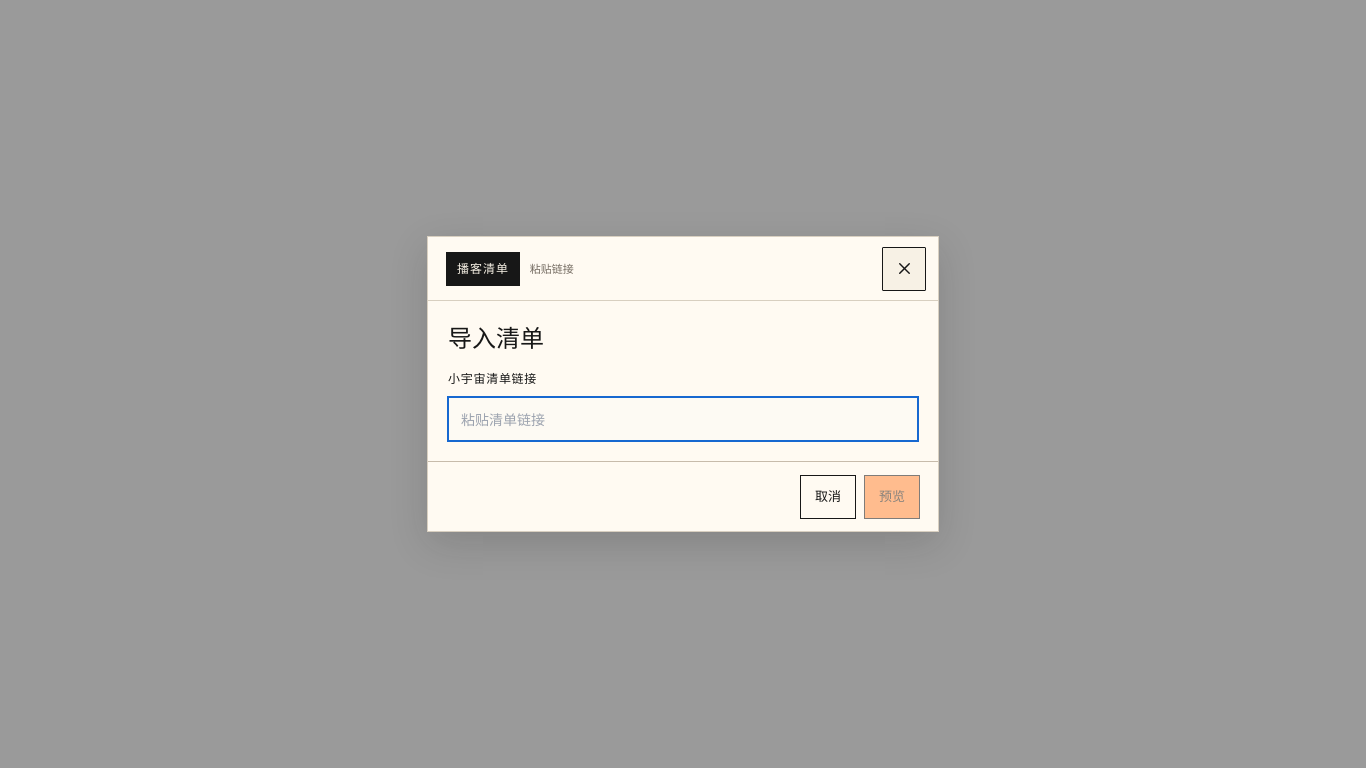
Test: ImportCollectionModal › accepts an h5 activity page URL as a collection source
The image size is (1366, 768).
Type "https://h5.xiaoyuzhoufm.com/xyz-activity/forgenz" into the field labelled "小宇宙清单链接" at (683, 419), box x1=448 y1=397 x2=918 y2=441
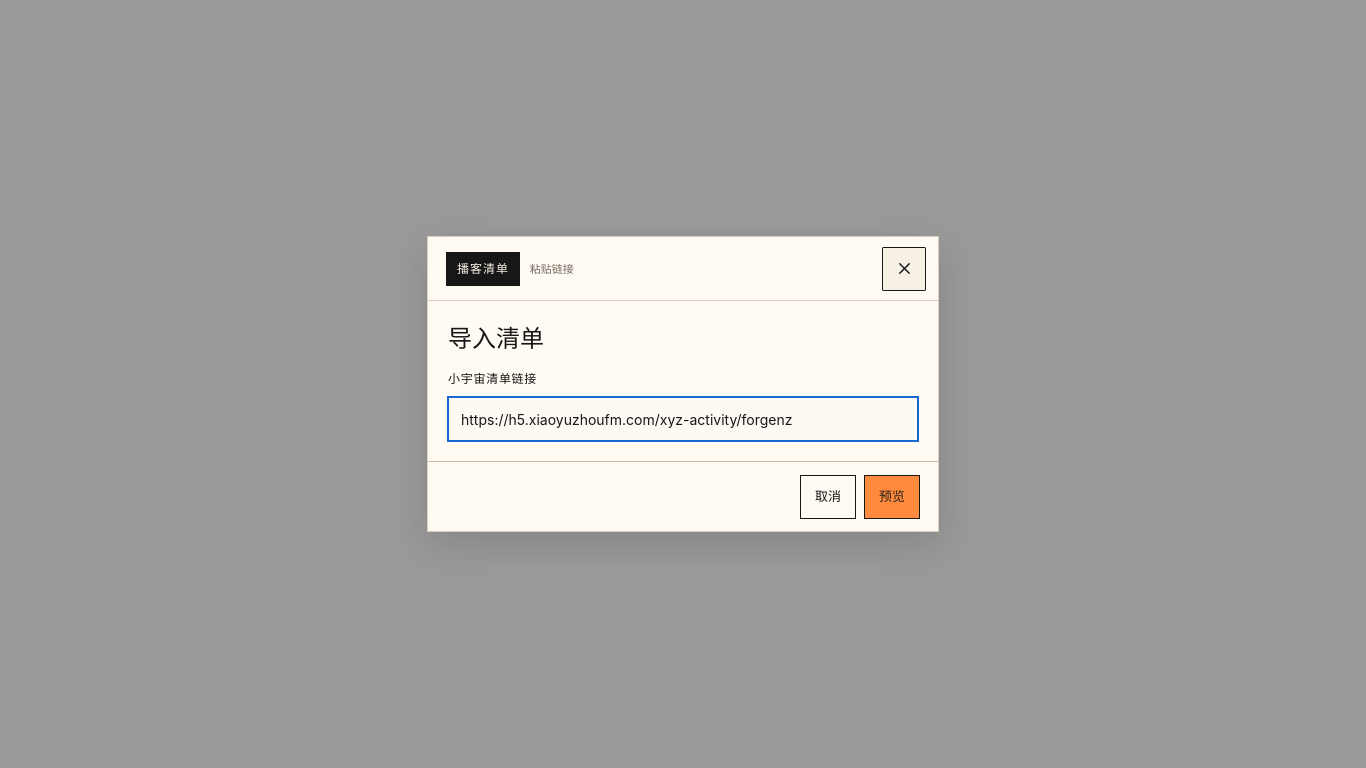
Click the button "预览" at (892, 496), box x1=864 y1=474 x2=920 y2=518
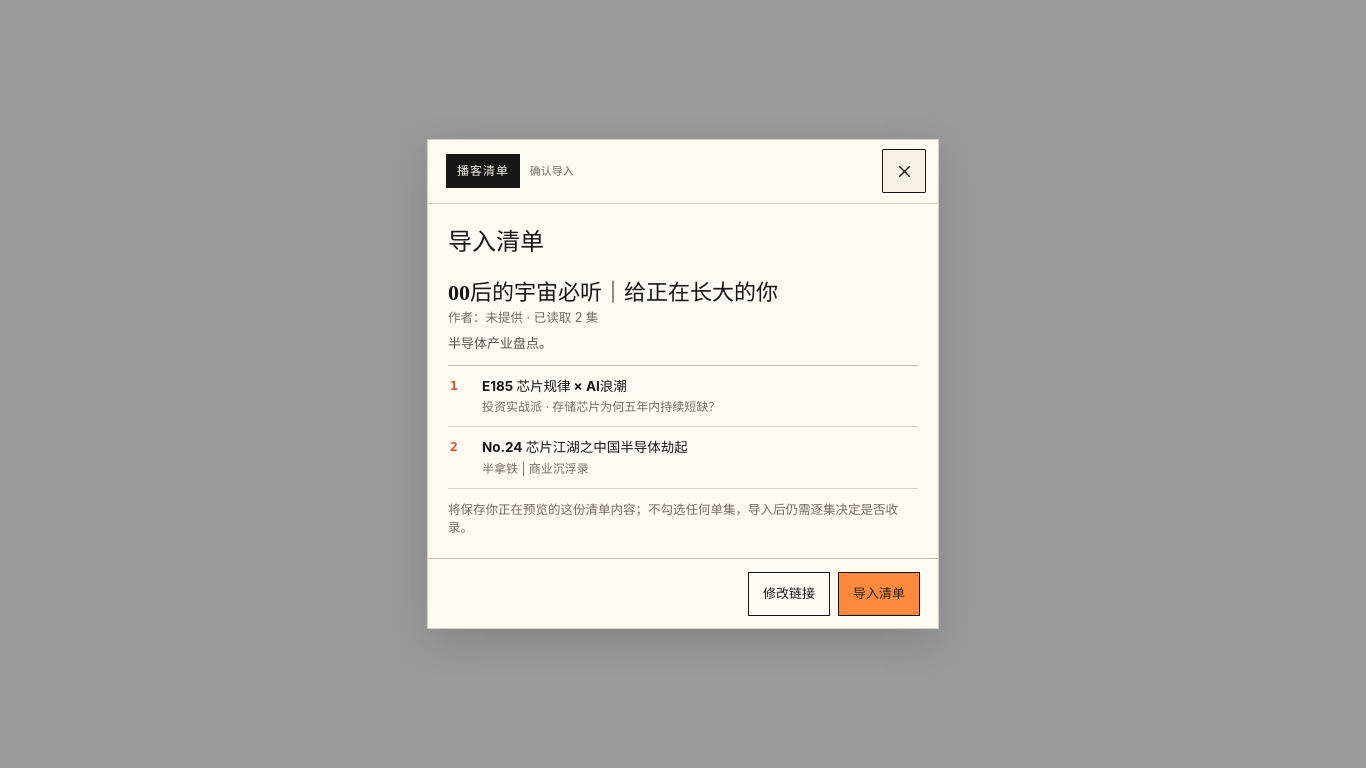
Check: the heading "00后的宇宙必听｜给正在长大的你" is shown, box x1=448 y1=280 x2=778 y2=305
